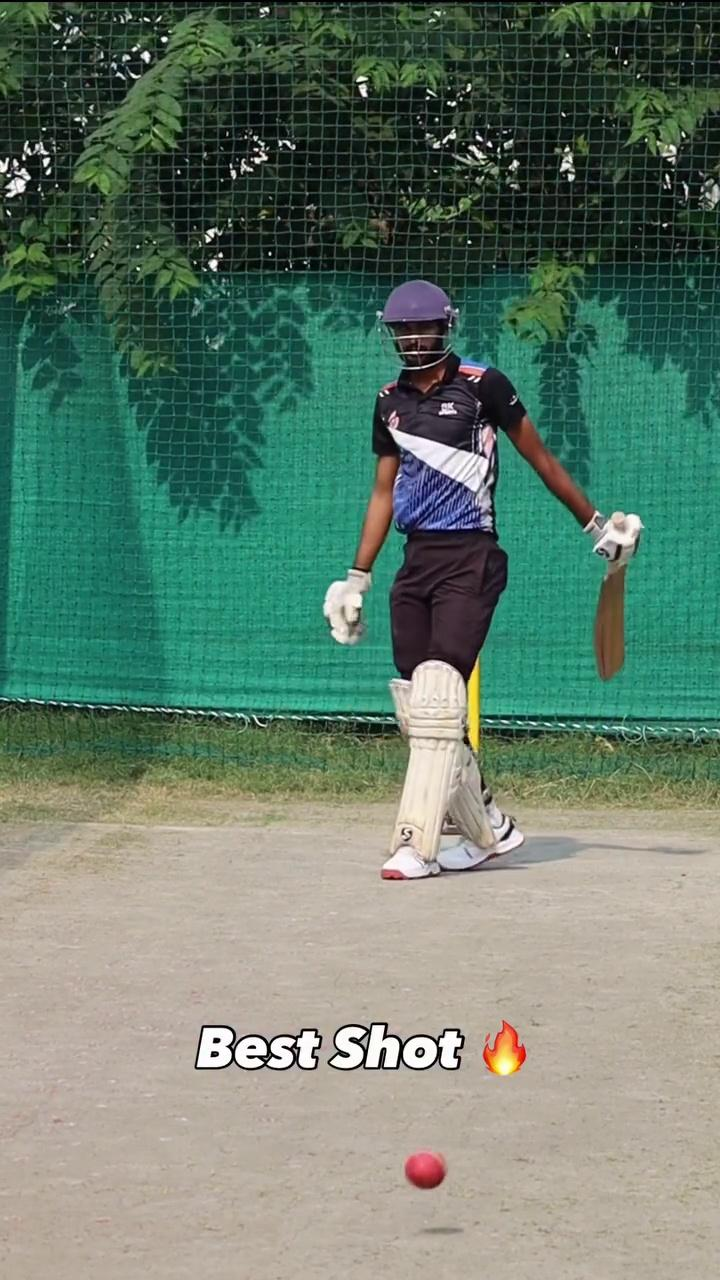bat: (589, 563, 627, 692)
